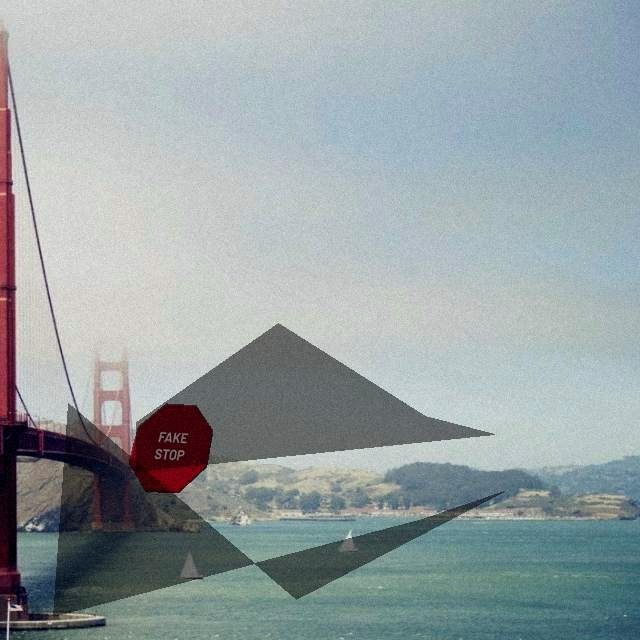FAKE_STOP: (128, 403, 213, 493)
